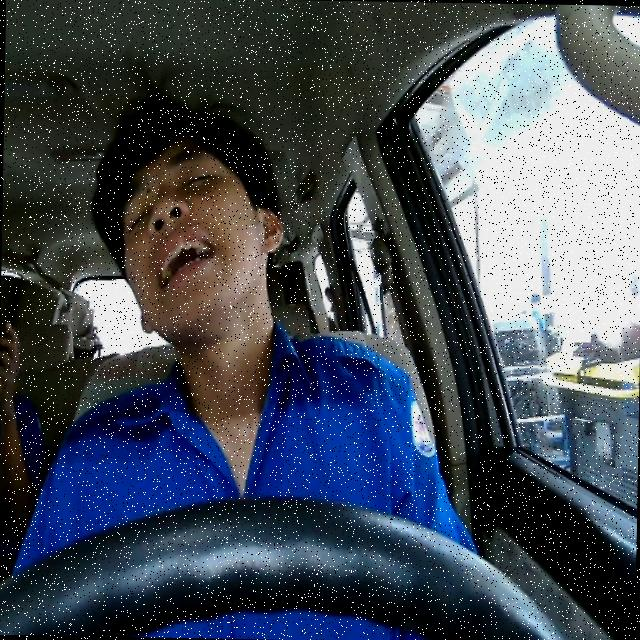yarning: (115, 136, 284, 340)
